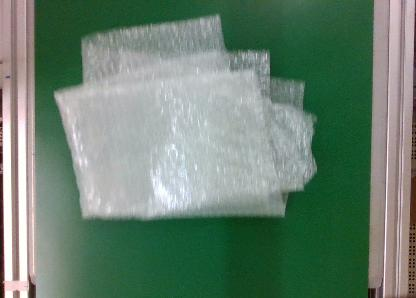Others: (55, 14, 318, 222)
